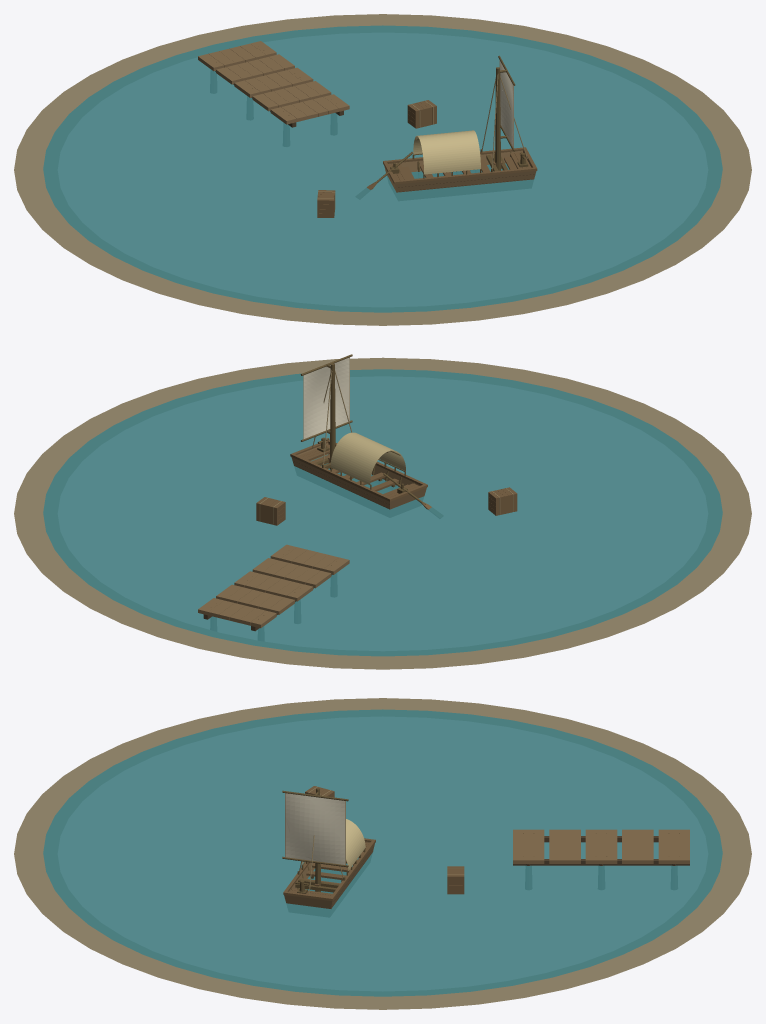
Rendered from dukou.glb.
The picture shows the model from 3 angles, top to bottom: view 1: azimuth 30°, elevation 25°; view 2: azimuth 150°, elevation 25°; view 3: azimuth 270°, elevation 25°; orthographic projection.
Parts seen in each view (by area): view 1: dukou; view 2: dukou; view 3: dukou.
Part boxes in pixels (left/top/right/bottom): dukou: left=14, top=14, right=751, bottom=325; dukou: left=14, top=354, right=751, bottom=669; dukou: left=14, top=698, right=751, bottom=1009.
Bounding box in the file's own units: 15.5 × 2.98 × 15.5.
